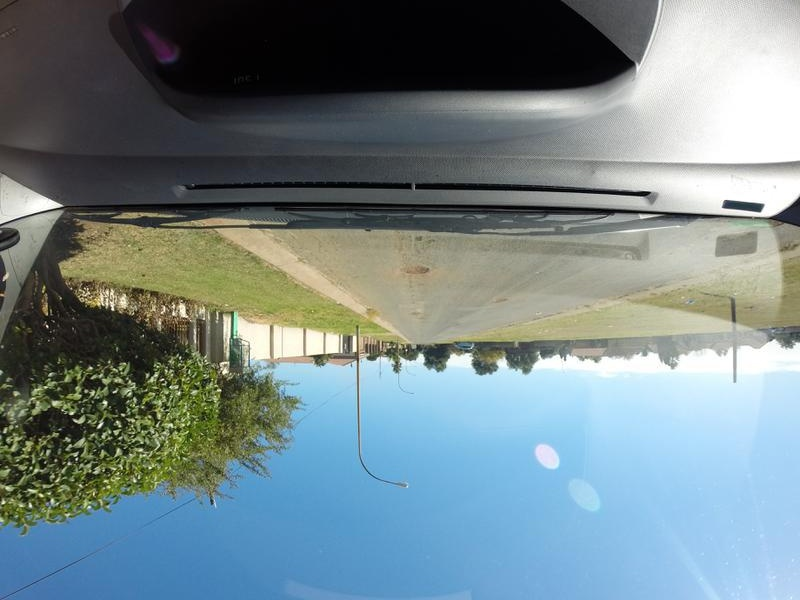pothole: (400, 264, 431, 275), (491, 291, 509, 304), (413, 307, 423, 317), (409, 235, 428, 240)
